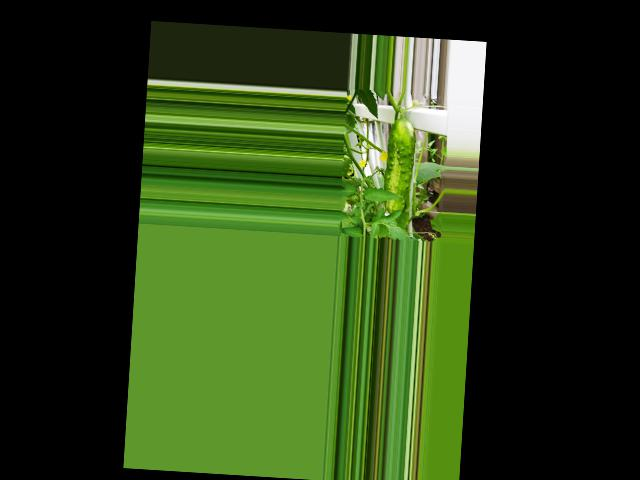cucumber: (383, 117, 416, 214)
